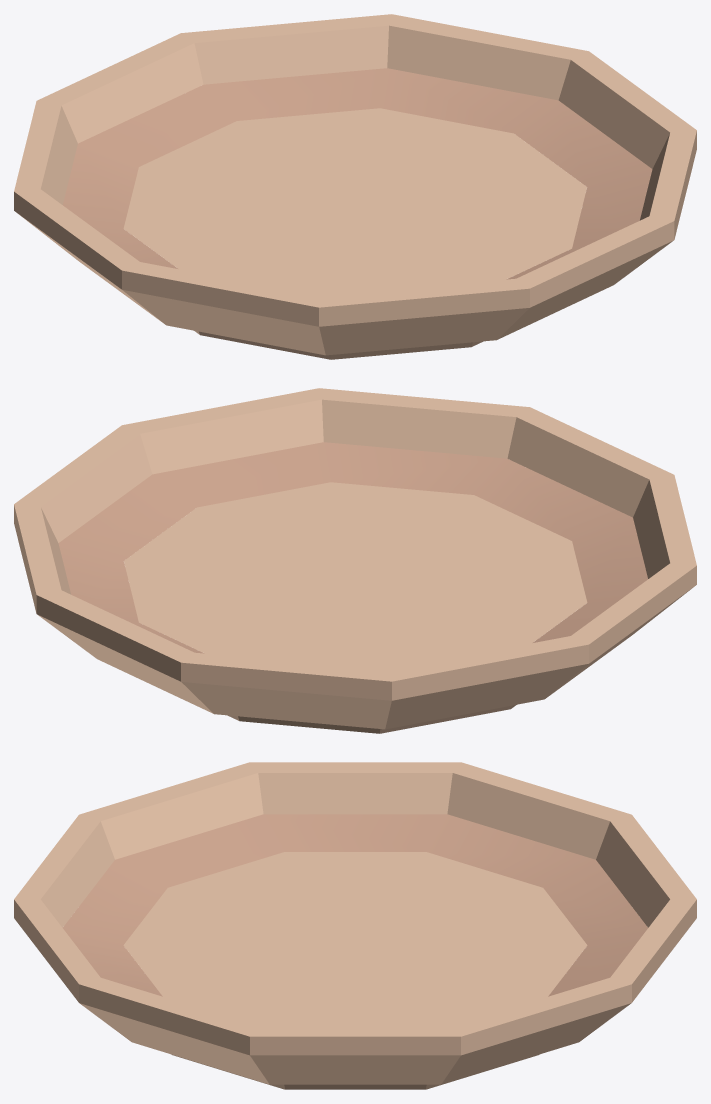
Rendered from tajine.glb.
3 views of the same model, one above another, from view 1: azimuth 30°, elevation 25°; view 2: azimuth 150°, elevation 25°; view 3: azimuth 270°, elevation 25° (orthographic). The views are drawn at different scales.
Visible parts, largest first — view 1: tajine; view 2: tajine; view 3: tajine.
Boxes of the visible parts, <box> form: tajine: <box>14,14,696,359</box>; tajine: <box>14,388,696,733</box>; tajine: <box>14,762,696,1089</box>.
Bounding box in the file's own units: 0.8192 × 0.138 × 0.8613.
